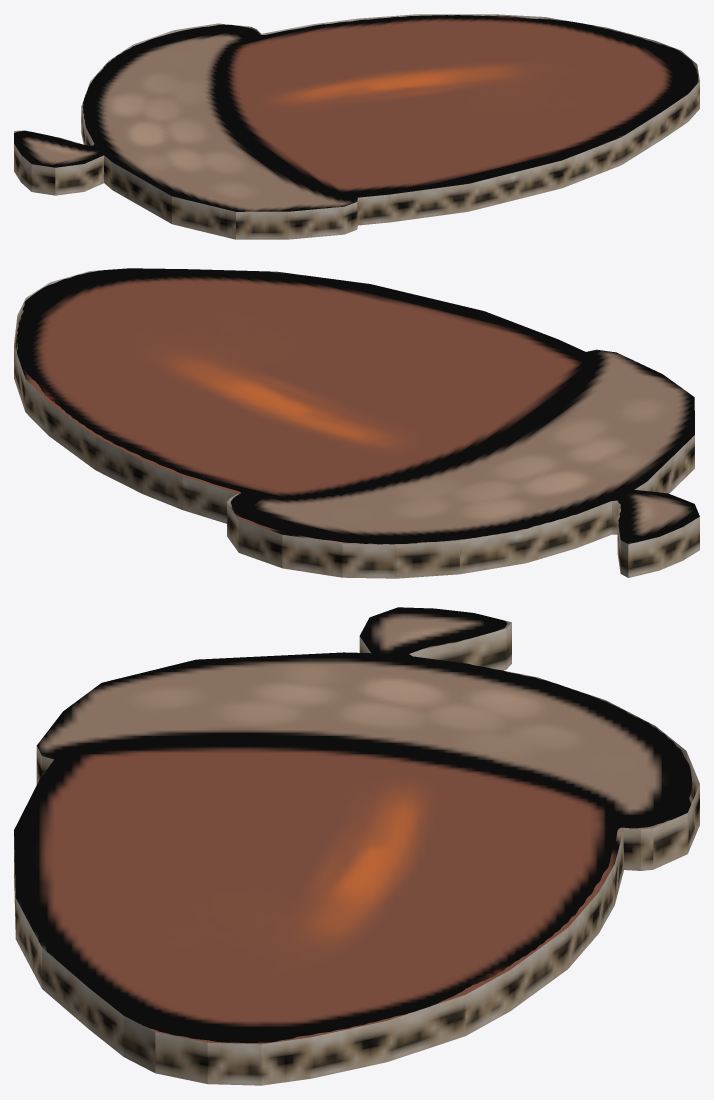
The model's file is nut.fbx.
The picture shows the model from 3 angles, top to bottom: view 1: azimuth 30°, elevation 25°; view 2: azimuth 150°, elevation 25°; view 3: azimuth 270°, elevation 25°; orthographic projection. The views are drawn at different scales.
Visible parts, largest first — view 1: Cube; view 2: Cube; view 3: Cube.
Part boxes in pixels (x1,y1,x2,y2): Cube: (14,14,699,239); Cube: (14,268,699,578); Cube: (14,607,699,1085).
Size of the model in its own units: 90.53 by 4 by 60.06.
